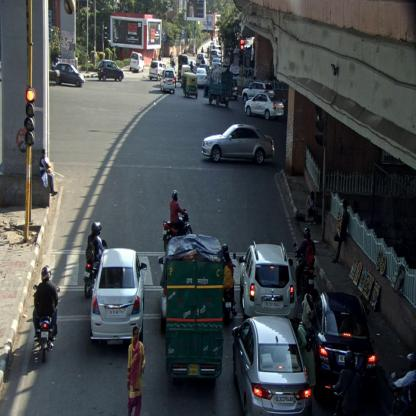car: (232, 315, 311, 415), (314, 291, 376, 400), (90, 247, 147, 348), (238, 240, 296, 319), (201, 124, 274, 166), (245, 92, 283, 119), (54, 63, 85, 88), (242, 81, 274, 104), (98, 57, 124, 82), (160, 68, 176, 94), (150, 60, 167, 84), (130, 51, 145, 73), (196, 66, 208, 90), (197, 51, 208, 67)
motorcycle: (33, 265, 60, 364), (162, 189, 193, 256), (84, 222, 109, 296), (294, 229, 318, 298), (390, 353, 416, 415), (224, 243, 237, 324)
truck: (165, 235, 224, 384), (204, 68, 232, 108)
